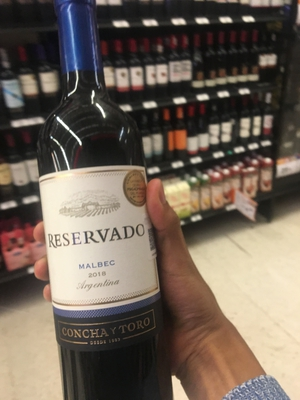reservado malbec: (31, 5, 174, 398)
